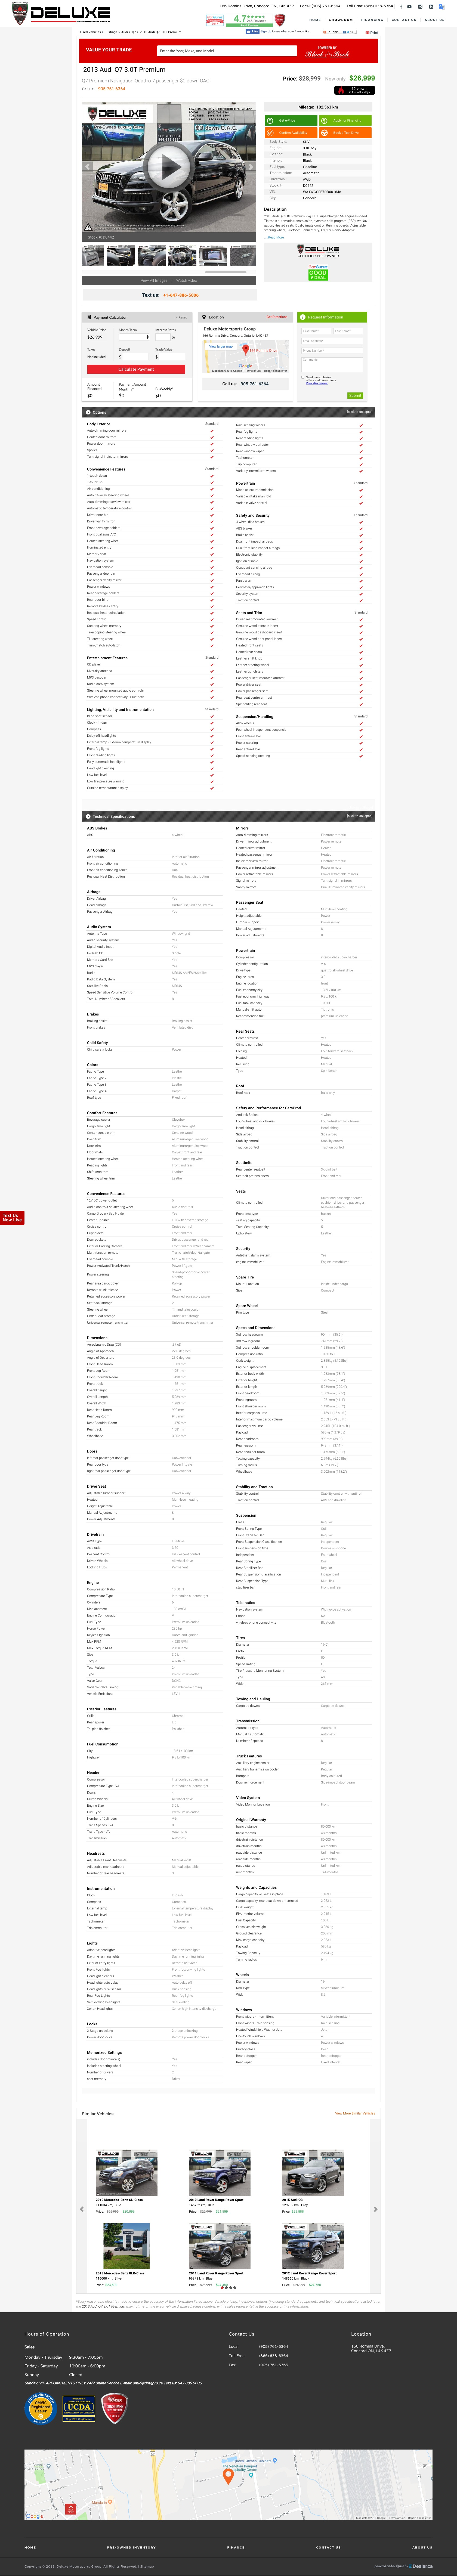car: (245, 161, 256, 174)
